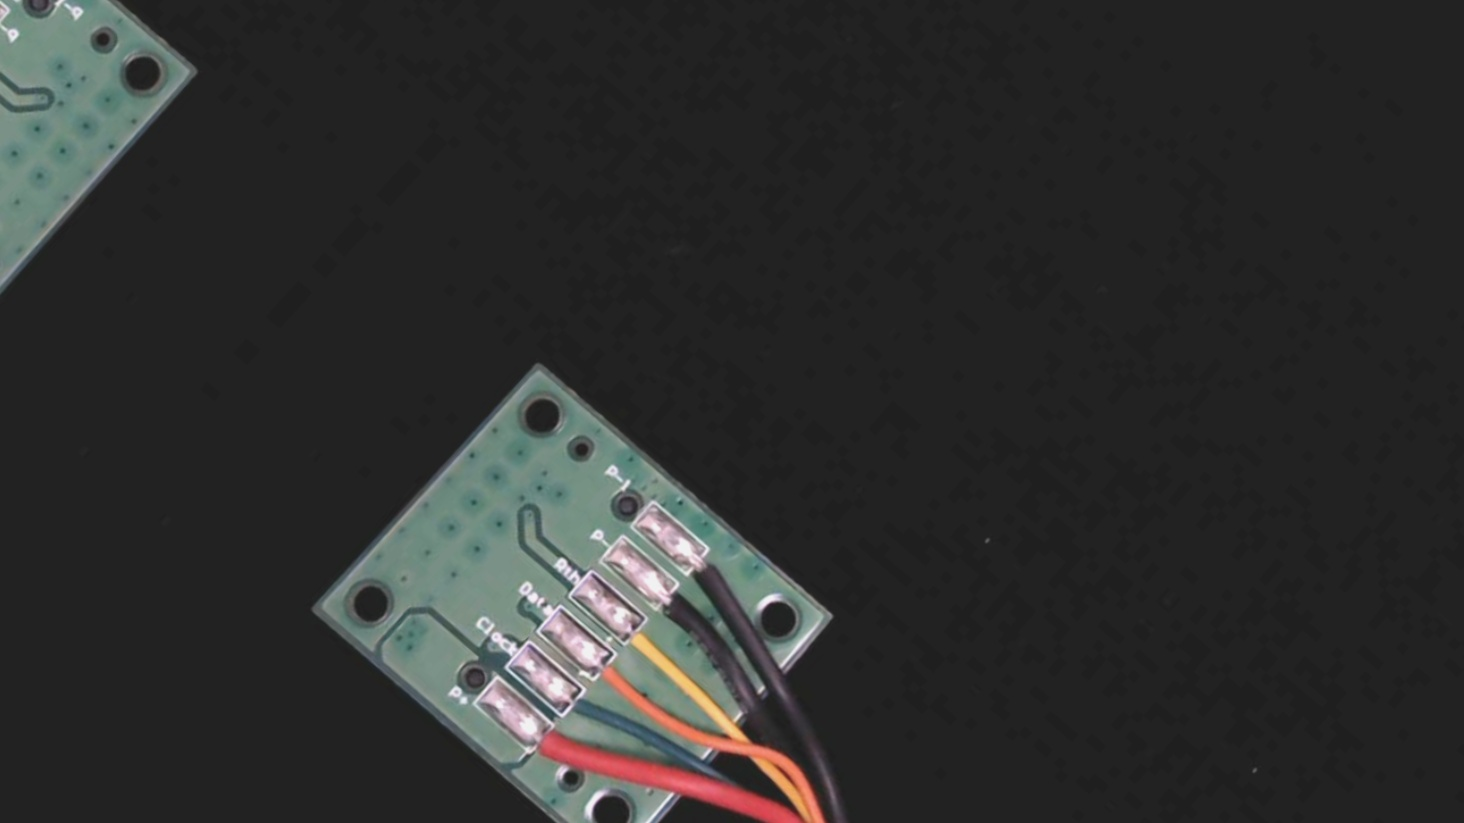Black: (638, 573, 718, 648)
Black1: (672, 537, 748, 609)
Green: (546, 675, 626, 751)
Orange: (575, 640, 658, 718)
Red: (517, 713, 599, 791)
Yellow: (606, 606, 694, 688)
